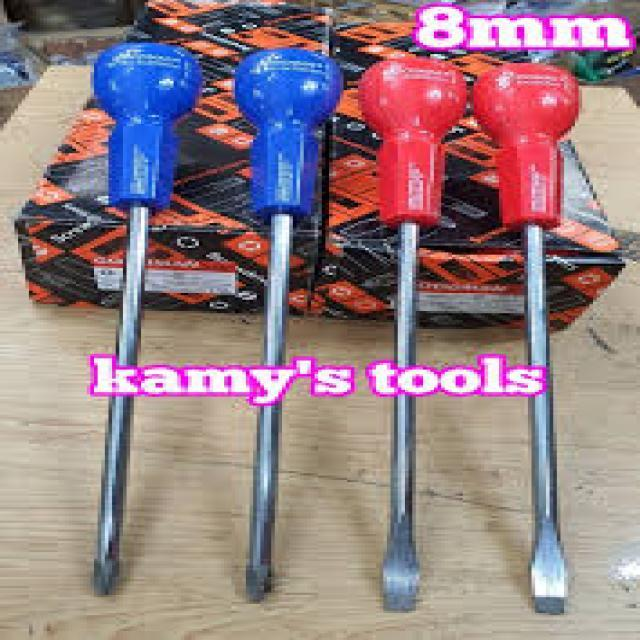screwdriver: (83, 38, 206, 608), (352, 52, 472, 620), (226, 44, 345, 610), (466, 61, 586, 620)
